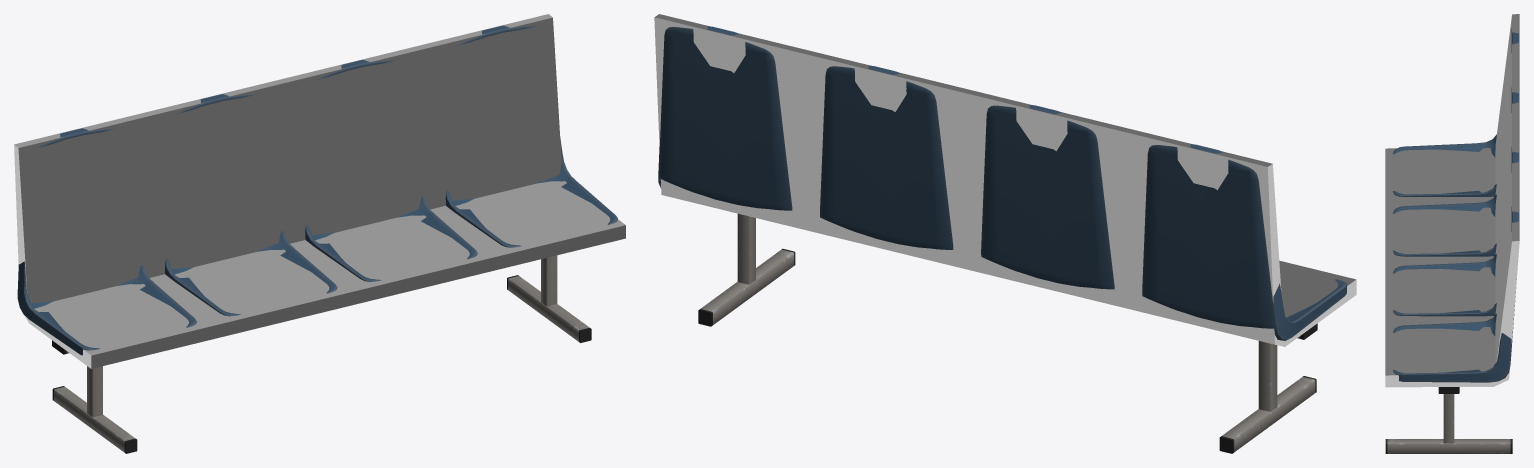
Rendered from SM_Bench_04.fbx.
3 views of the same model, side by side, from view 1: azimuth 30°, elevation 25°; view 2: azimuth 150°, elevation 25°; view 3: azimuth 270°, elevation 25° (orthographic). The views are drawn at different scales.
Visible parts, largest first — view 1: SM_Bench_04_ConvexHulls, SM_Bench_04; view 2: SM_Bench_04, SM_Bench_04_ConvexHulls; view 3: SM_Bench_04_ConvexHulls, SM_Bench_04.
Boxes of the visible parts, x1=… form: SM_Bench_04_ConvexHulls: x1=14, y1=14, x2=625, y2=368; SM_Bench_04: x1=17, y1=25, x2=617, y2=453; SM_Bench_04: x1=658, y1=26, x2=1347, y2=453; SM_Bench_04_ConvexHulls: x1=654, y1=14, x2=1356, y2=346; SM_Bench_04_ConvexHulls: x1=1385, y1=14, x2=1519, y2=387; SM_Bench_04: x1=1385, y1=28, x2=1518, y2=453.
Size of the model in its own units: 279 by 68.91 by 129.
2 materials, 1 textured.
